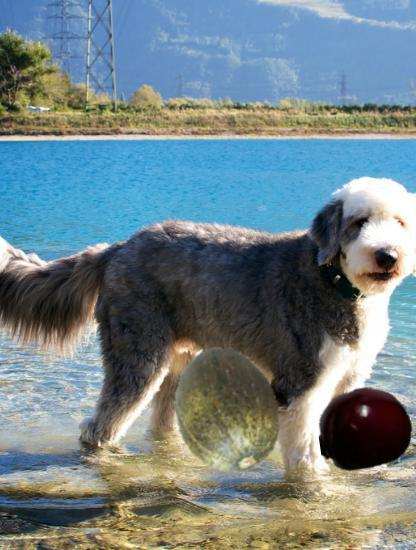Cherry: (318, 382, 413, 477)
Melon: (167, 345, 297, 475)
